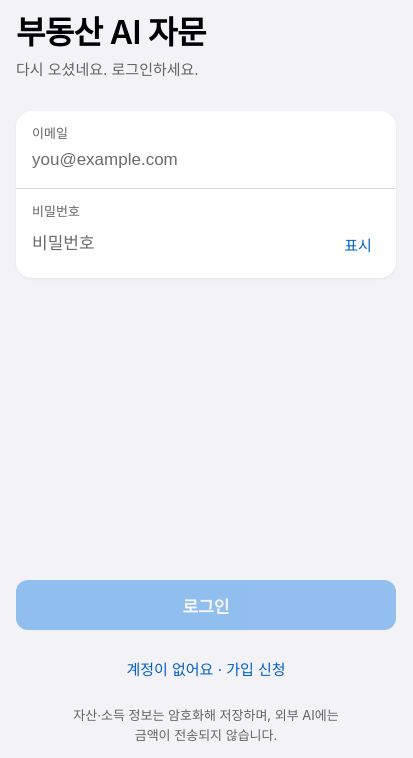
Test: 로그인 › 403 ACCOUNT_REJECTED 는 거부 안내로 보인다
Type "me@example.com" into the field labelled "이메일" at (206, 160), box 32,144 -> 380,176
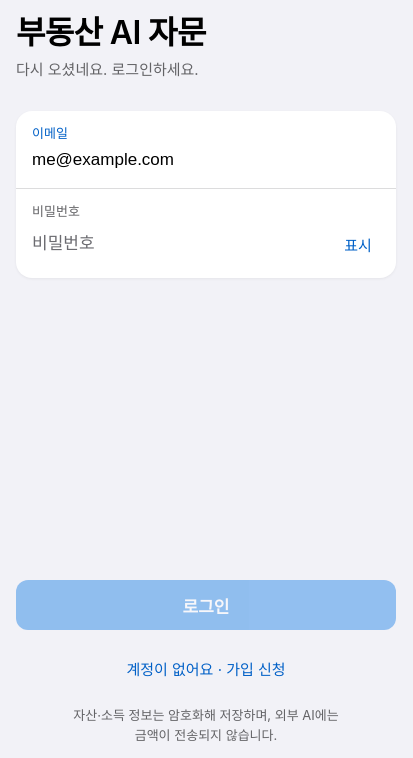
Type "password12345" into the password field labelled "비밀번호" at (180, 244), box 32,228 -> 328,260
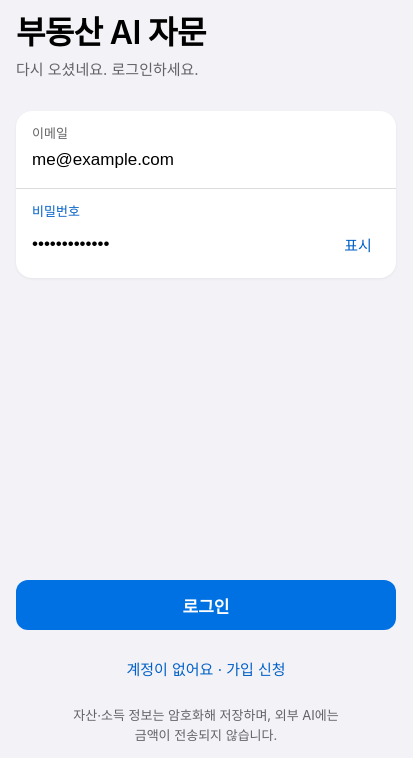
Click the button "로그인" at (206, 605), box 16,580 -> 396,630
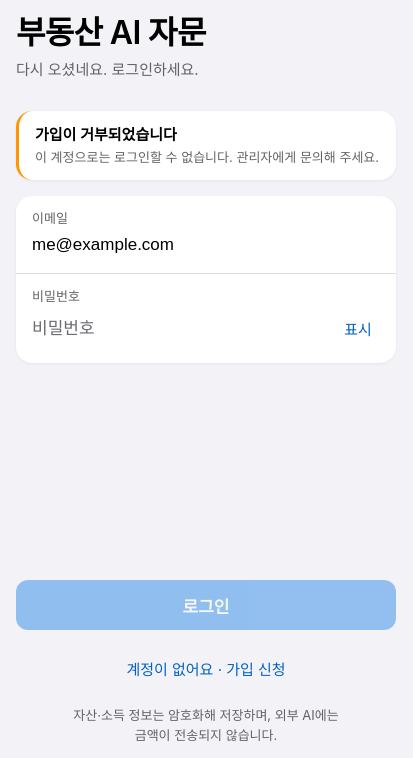
Result: the message shows "가입이 거부되었습니다" at 35,125 -> 177,144
